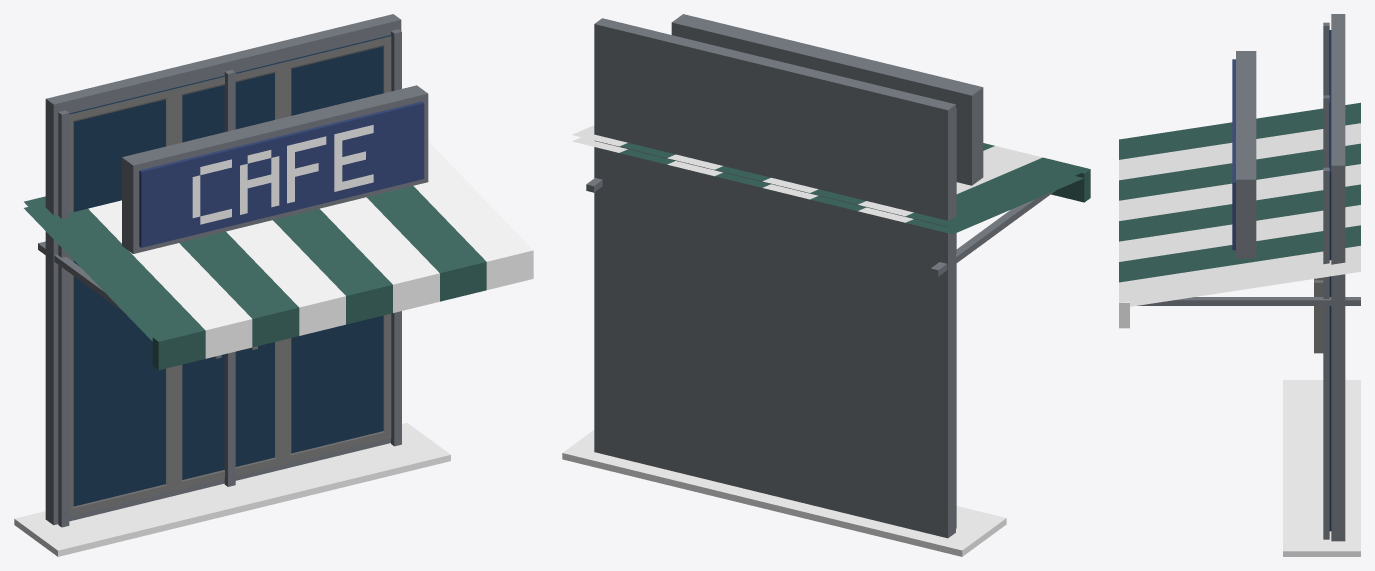
File: entrance_close.fbx
The picture shows the model from 3 angles, left to right: view 1: azimuth 30°, elevation 25°; view 2: azimuth 150°, elevation 25°; view 3: azimuth 270°, elevation 25°; orthographic projection. The views are drawn at different scales.
Parts seen in each view (by area): view 1: a2002/0/entrance.001; view 2: a2002/0/entrance.001; view 3: a2002/0/entrance.001.
Boxes of the visible parts, x1,y1,x2,y2 form: a2002/0/entrance.001: [14, 14, 533, 556]; a2002/0/entrance.001: [562, 14, 1090, 556]; a2002/0/entrance.001: [1119, 14, 1360, 556].
Bounding box in the file's own units: 2.6 × 2.7 × 1.55.
